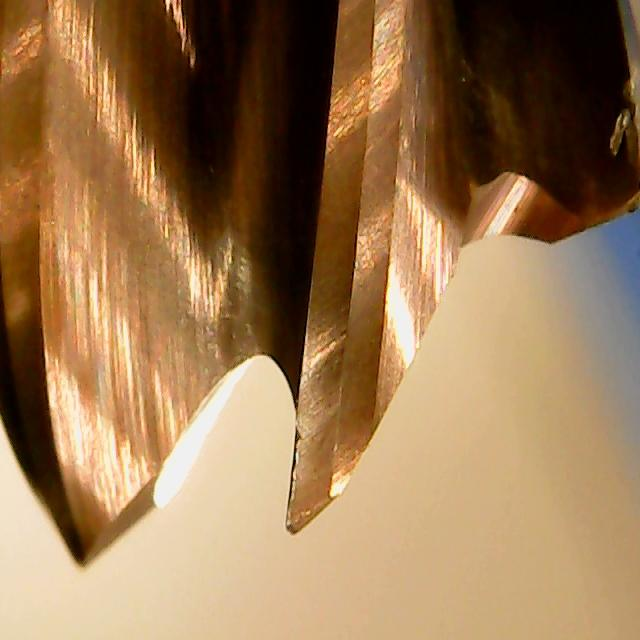Tool-wear-class-1: (277, 235, 387, 535)
